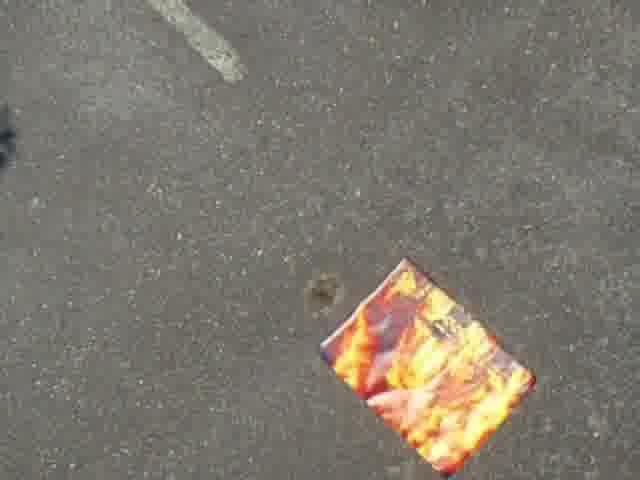fire-poster: (322, 259, 537, 480)
